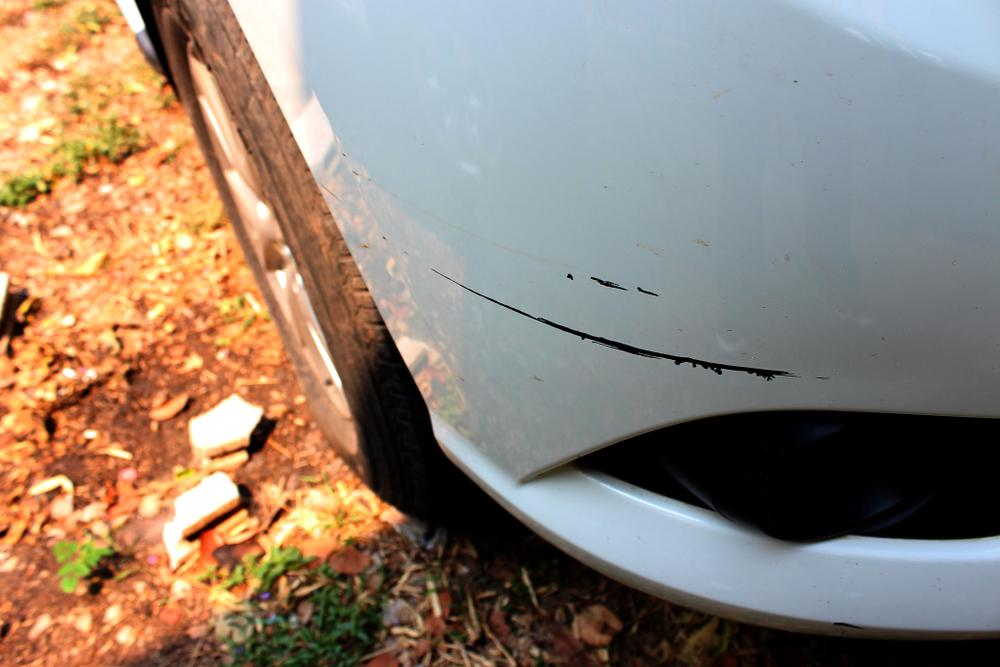scratch: (422, 265, 833, 382), (558, 269, 668, 303)
